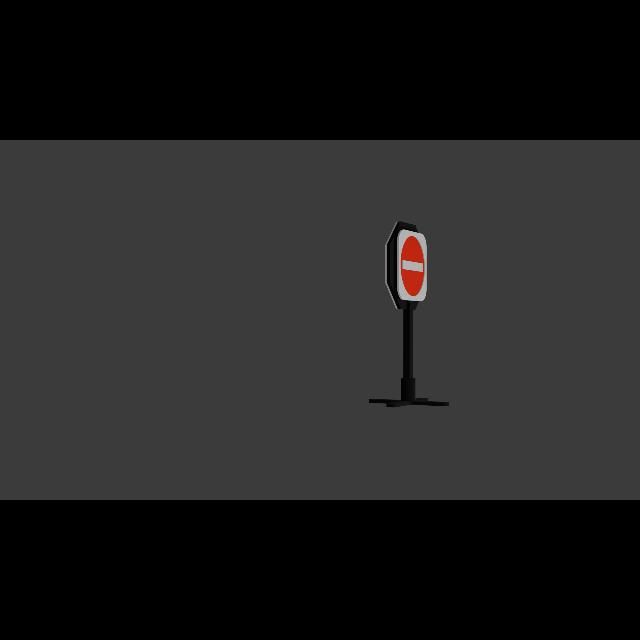sign_noentry: (399, 233, 427, 301)
